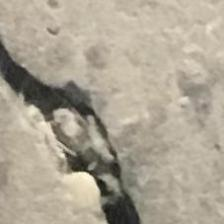Crack: (0, 19, 172, 224)
